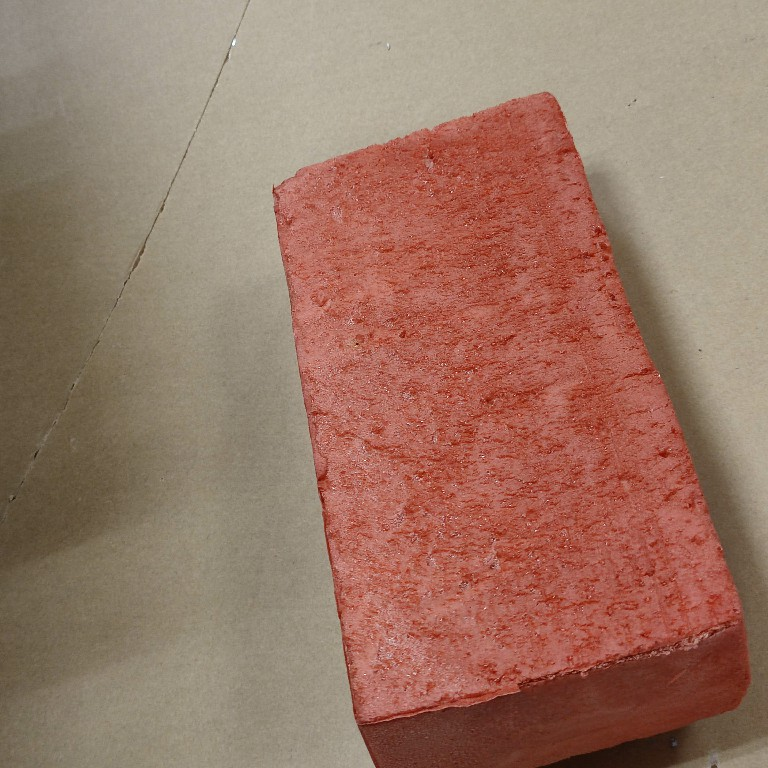brick: (272, 89, 753, 768)
